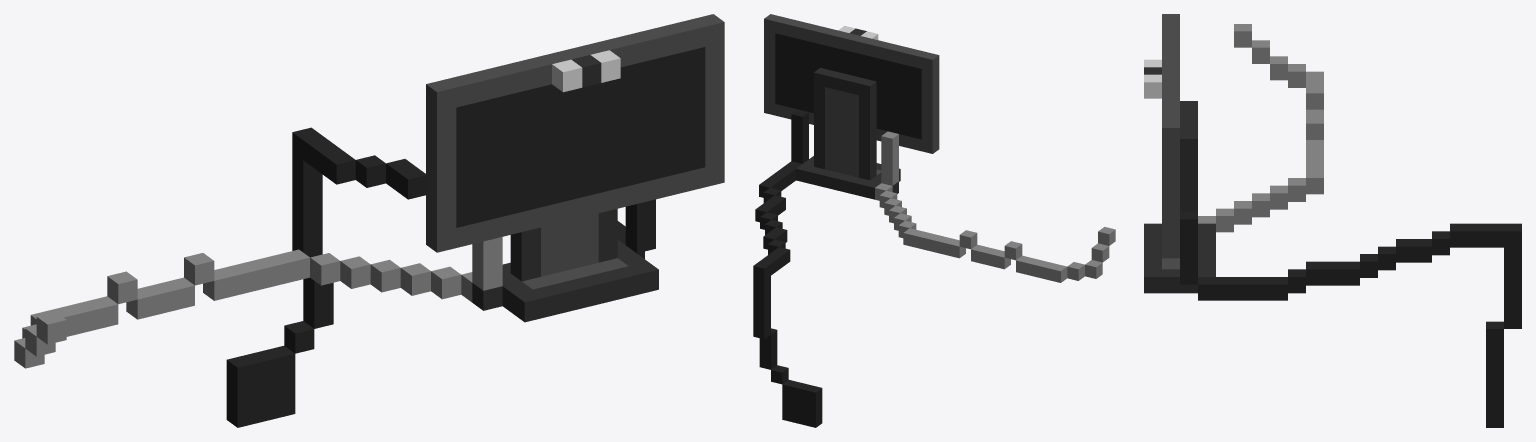
The model's file is Monitor-0-Monitor.obj.
3 views of the same model, side by side, from view 1: azimuth 30°, elevation 25°; view 2: azimuth 150°, elevation 25°; view 3: azimuth 270°, elevation 25° (orthographic). The views are drawn at different scales.
Parts seen in each view (by area): view 1: Monitor; view 2: Monitor; view 3: Monitor.
Part boxes in pixels (x1=…): Monitor: x1=14, y1=14, x2=724, y2=427; Monitor: x1=753, y1=14, x2=1115, y2=427; Monitor: x1=1144, y1=14, x2=1521, y2=427.
Bounding box in the file's own units: 3.3 × 2.4 × 2.1.
1 material, 1 textured.
